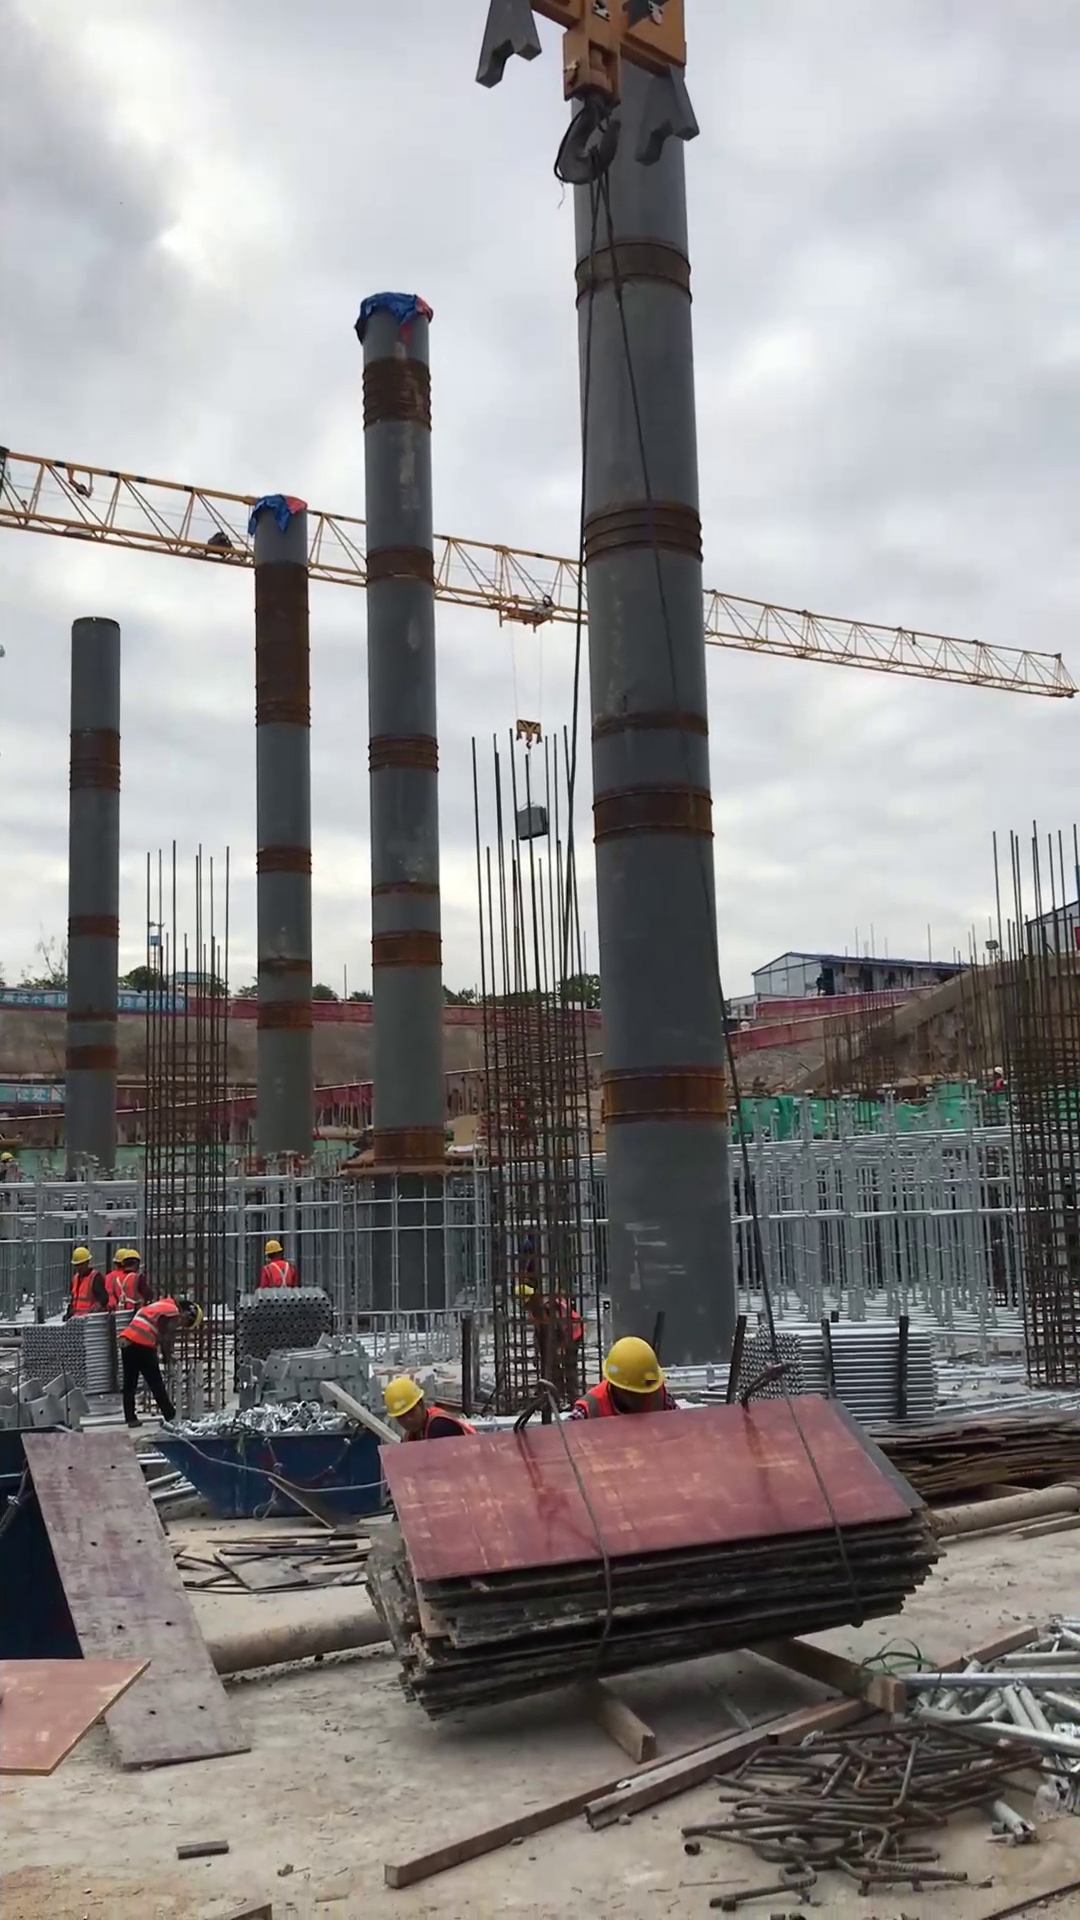board: (366, 1387, 956, 1737), (873, 1394, 1080, 1507)
helmet: (599, 1337, 670, 1395), (382, 1374, 427, 1418), (183, 1298, 209, 1334), (65, 1246, 95, 1271), (114, 1245, 142, 1270), (261, 1237, 286, 1259)
hook: (509, 710, 549, 751)
hopper: (166, 1413, 387, 1532)
person: (117, 1289, 210, 1432), (569, 1335, 687, 1421), (377, 1372, 481, 1446), (59, 1239, 110, 1320), (108, 1245, 150, 1316), (253, 1233, 300, 1293)
scaffold: (729, 1316, 943, 1415), (228, 1283, 340, 1382), (19, 1312, 120, 1405)
slogan: (1, 986, 72, 1010), (1, 1081, 69, 1102)
vest: (572, 1380, 673, 1417), (120, 1295, 181, 1351), (426, 1401, 477, 1440), (114, 1268, 143, 1316), (70, 1273, 99, 1317), (262, 1257, 293, 1289)
